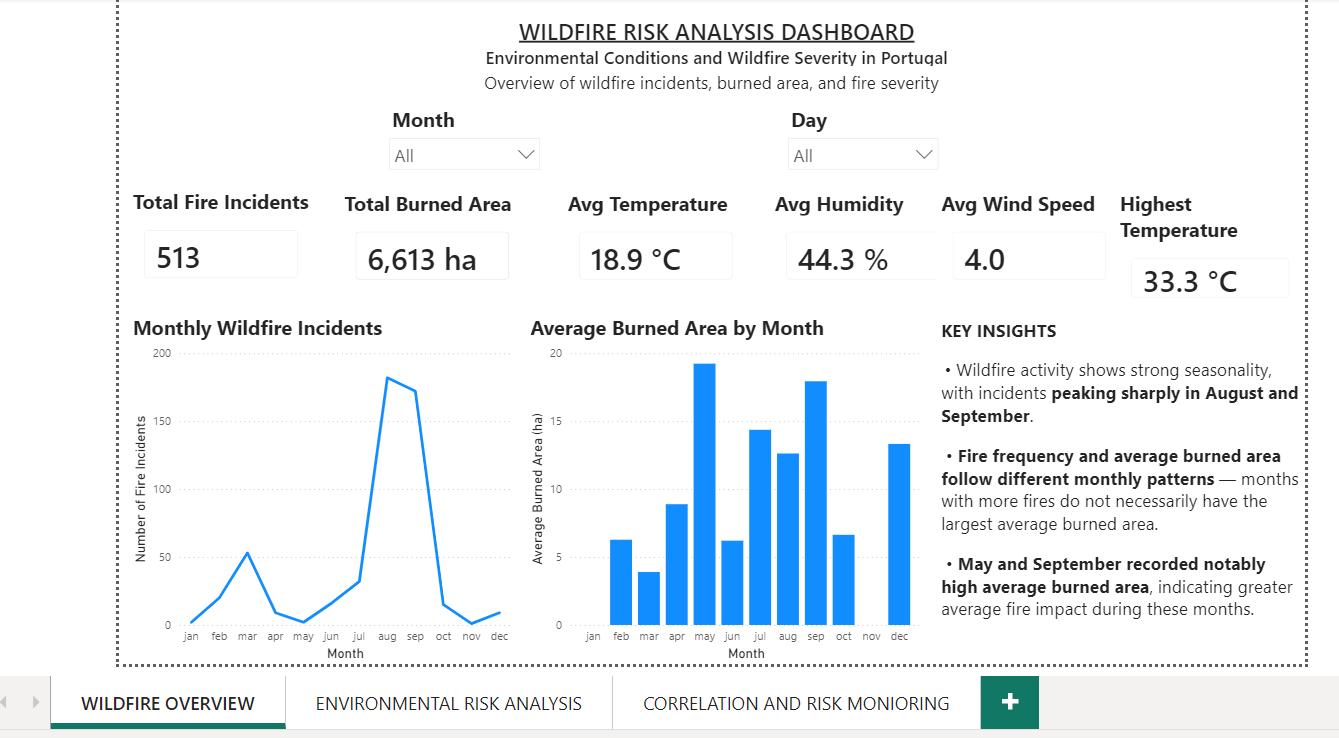

What the dashboard file says about the page in this screenshot:
{"tool":"powerbi","page":{"name":"WILDFIRE OVERVIEW","canvas":[1280,720],"ordinal":0},"visuals":[{"type":"cardVisual","title":"Total Fire Incidents","fields":{"Data":["CountNonNull(df_cleaned.area)"]},"box":[9.7,205.6,200.8,115],"z":0},{"type":"cardVisual","title":"Total Burned Area ","fields":{"Data":["MonthTable.Total Burned Area Display"]},"box":[238,207.3,200,115],"z":1000},{"type":"cardVisual","title":"Avg Temperature","fields":{"Data":["MonthTable.Average Temperature Display"]},"box":[479.3,207.3,200,115],"z":2000},{"type":"cardVisual","title":"Avg Humidity ","fields":{"Data":["MonthTable.Average Humidity Display"]},"box":[702.7,207.3,200,115],"z":3000},{"type":"cardVisual","title":"Avg Wind Speed","fields":{"Data":["Avg(df_cleaned.wind)"]},"box":[882.5,207.3,200,115],"z":4000},{"type":"cardVisual","title":"Highest Temperature","fields":{"Data":["MonthTable.Maximum Temperature Display"]},"box":[1075.2,207.3,205.6,134.4],"z":5000},{"type":"lineChart","title":"Monthly Wildfire Incidents","fields":{"Y":["CountNonNull(df_cleaned.area)"],"Category":["df_cleaned.Month"]},"box":[9.7,341.7,417.8,378.9],"z":6000},{"type":"textbox","box":[9.7,14.6,1271.1,71.2],"z":7000},{"type":"slicer","fields":{"Values":["df_cleaned.Month"]},"box":[281.7,111.7,183,95.5],"z":8000},{"type":"slicer","fields":{"Values":["df_cleaned.day"]},"box":[712.5,111.7,182,95],"z":9000},{"type":"clusteredColumnChart","title":"Average Burned Area by Month","fields":{"Y":["Avg(df_cleaned.area)"],"Category":["df_cleaned.Month"]},"box":[438.8,341.7,432.3,378.9],"z":11000},{"type":"textbox","box":[0,74.5,1279.2,37.2],"z":12000},{"type":"textbox","box":[882.5,341.7,396.7,378.9],"z":13000}]}

Visuals, with their boxes on the page's 1280x720 design canvas (x1, y1, x2, y2). These are canvas units, not pixel positions in the 1339x738 screenshot, which may show the page scaled, cropped or inside an application window:
"Total Fire Incidents" cardVisual: [left=10, top=206, right=210, bottom=321]
"Total Burned Area " cardVisual: [left=238, top=207, right=438, bottom=322]
"Avg Temperature" cardVisual: [left=479, top=207, right=679, bottom=322]
"Avg Humidity " cardVisual: [left=703, top=207, right=903, bottom=322]
"Avg Wind Speed" cardVisual: [left=882, top=207, right=1082, bottom=322]
"Highest Temperature" cardVisual: [left=1075, top=207, right=1281, bottom=342]
"Monthly Wildfire Incidents" lineChart: [left=10, top=342, right=428, bottom=721]
textbox: [left=10, top=15, right=1281, bottom=86]
slicer - df_cleaned.Month: [left=282, top=112, right=465, bottom=207]
slicer - df_cleaned.day: [left=712, top=112, right=894, bottom=207]
"Average Burned Area by Month" clusteredColumnChart: [left=439, top=342, right=871, bottom=721]
textbox: [left=0, top=74, right=1279, bottom=112]
textbox: [left=882, top=342, right=1279, bottom=721]
